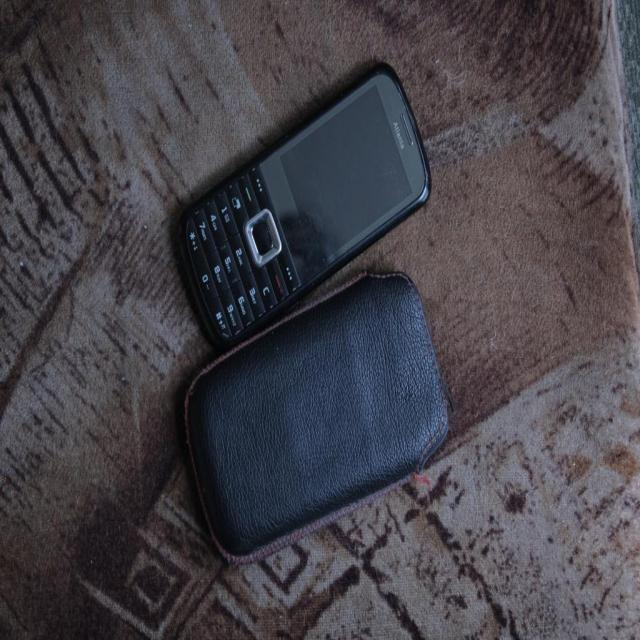Phone: (171, 66, 432, 357)
